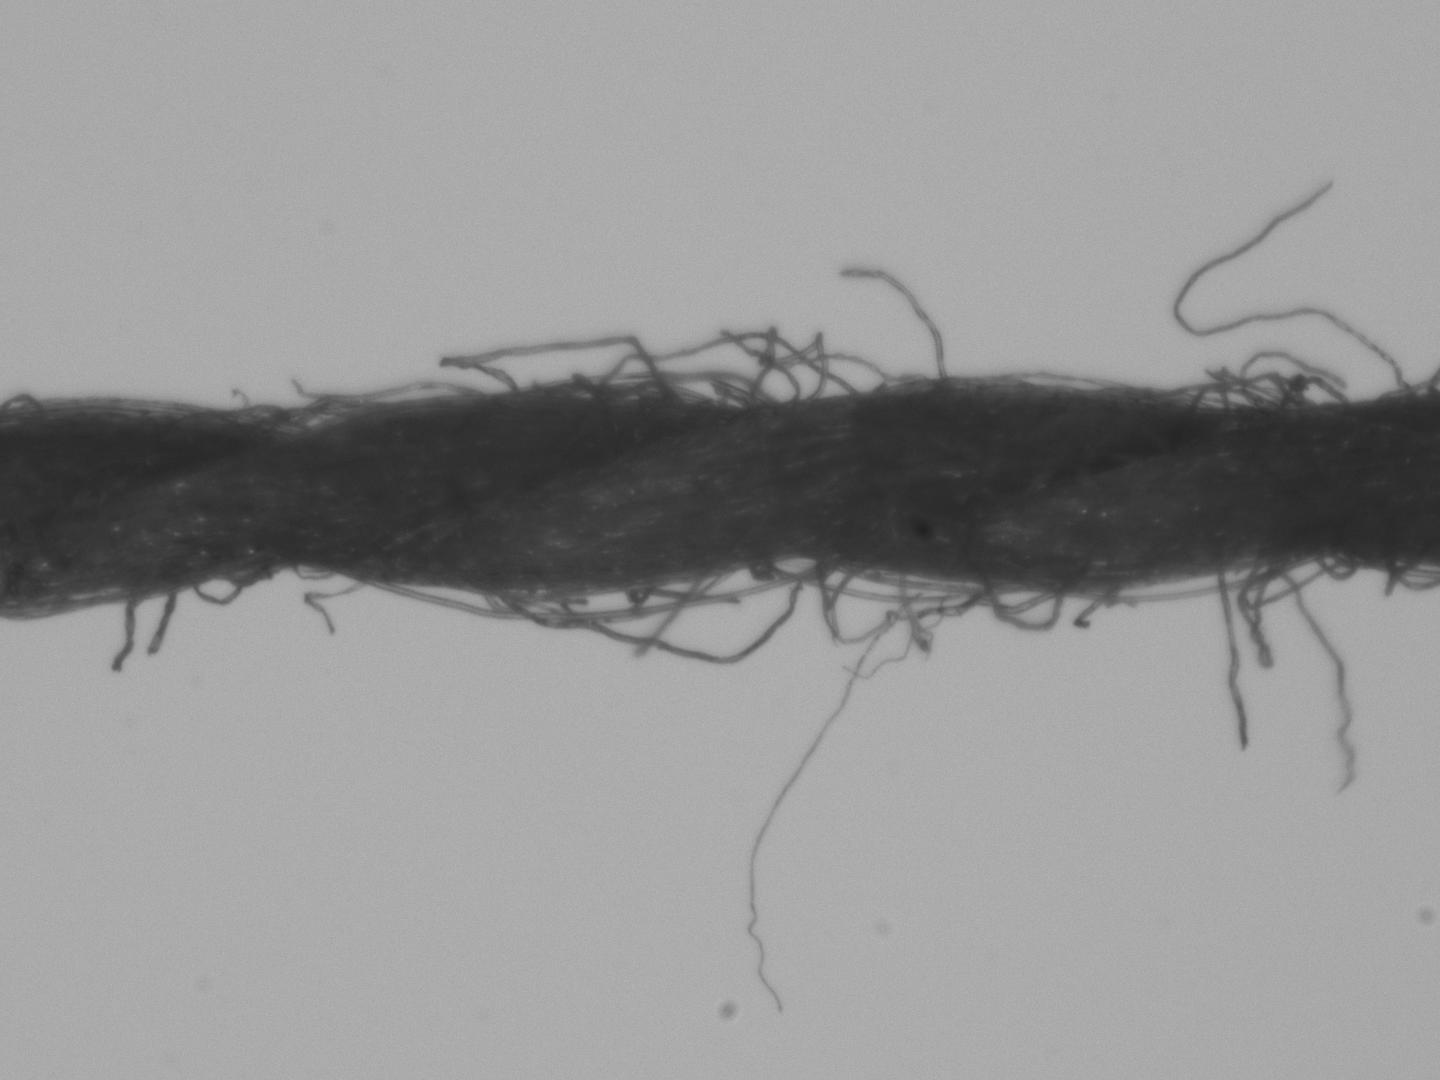loop_fiber: (379, 556, 823, 627), (575, 324, 866, 410), (544, 574, 808, 665), (434, 329, 696, 407), (818, 566, 927, 644), (993, 588, 1069, 636), (190, 577, 252, 606)
protruding_fiber: (735, 583, 1008, 1018), (1169, 176, 1425, 402), (1272, 566, 1358, 799), (835, 261, 956, 381), (1213, 569, 1252, 752), (296, 575, 374, 640), (108, 588, 144, 683), (147, 587, 184, 656)
